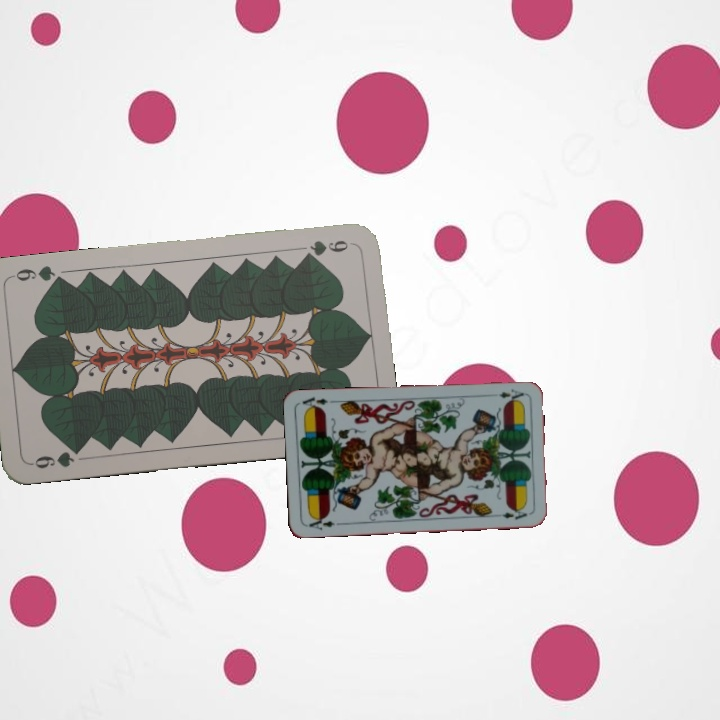EA: (303, 512, 337, 532), (495, 385, 526, 403)
G9: (27, 443, 85, 471), (297, 236, 351, 261)
